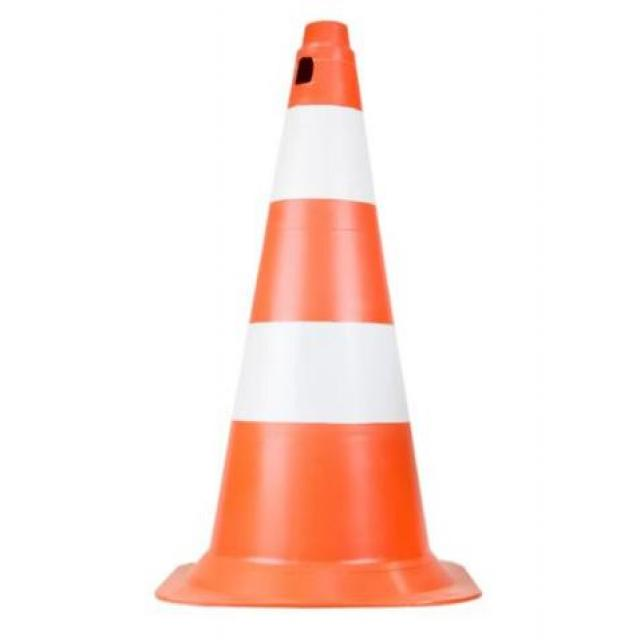cone: (151, 5, 481, 608)
